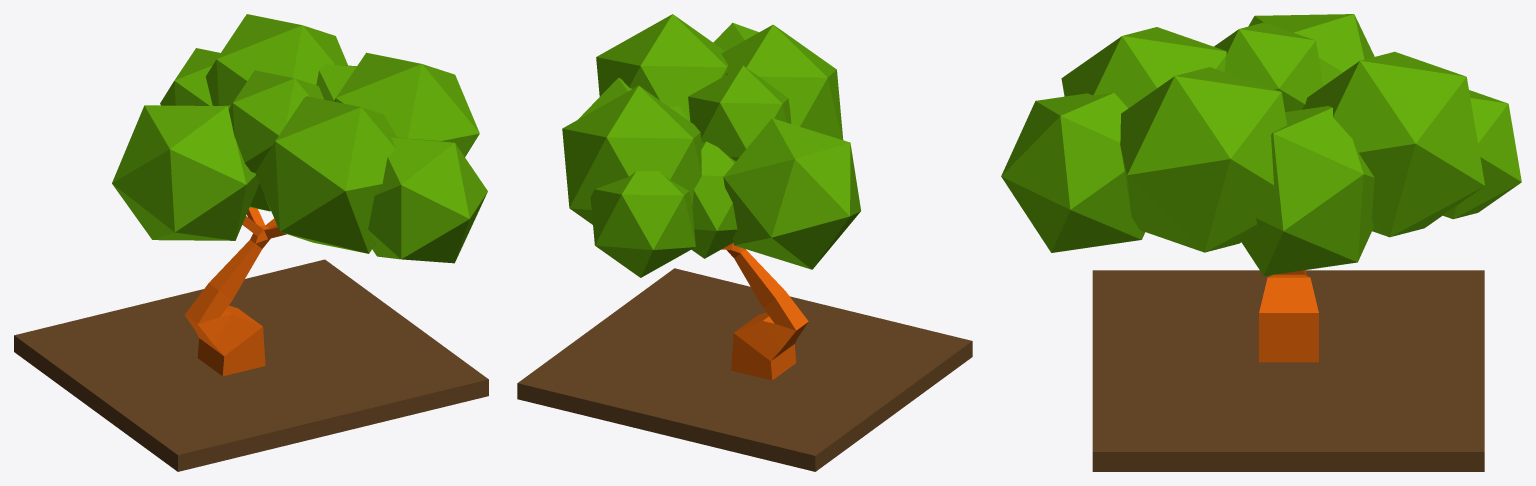
Rendered from Tree1.glb.
The picture shows the model from 3 angles, left to right: view 1: azimuth 30°, elevation 25°; view 2: azimuth 150°, elevation 25°; view 3: azimuth 270°, elevation 25°; orthographic projection. The views are drawn at different scales.
Visible parts, largest first — view 1: Icosphere, Cube.001, Cube; view 2: Icosphere, Cube.001, Cube; view 3: Icosphere, Cube.001, Cube.
Part boxes in pixels (x1,y1,x2,y2): Icosphere: [112, 14, 487, 263]; Cube.001: [14, 259, 488, 471]; Cube: [185, 207, 286, 376]; Icosphere: [562, 14, 860, 277]; Cube.001: [517, 268, 972, 471]; Cube: [721, 242, 808, 380]; Icosphere: [1001, 14, 1521, 275]; Cube.001: [1092, 270, 1484, 471]; Cube: [1259, 270, 1318, 362].
Bounding box in the file's own units: 41.8 × 37.57 × 47.04.
